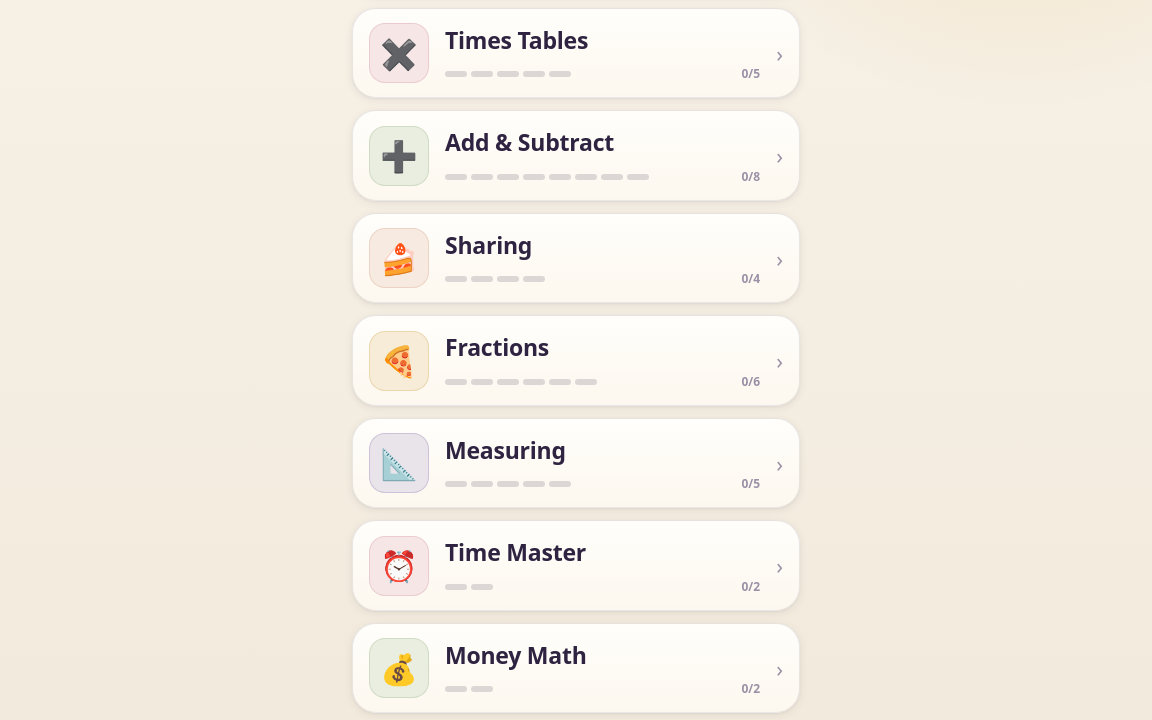
Test: full play loop › the intro shows only once — revisits land on the levels, 📖 still a tap away
(page scrolled)
Step 1. Click the button "🍕 Fractions 0/6 ›" → click(399, 361), box [352,315,800,406]
(page scrolled)
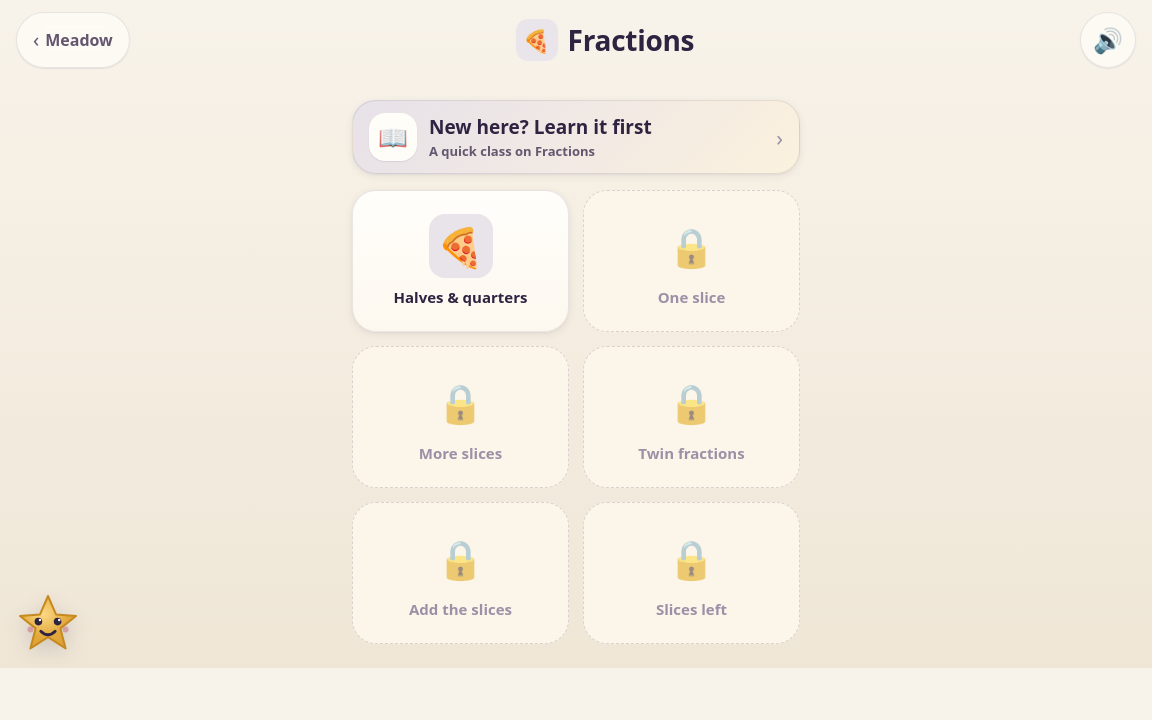
Step 2. Click the button "📖 New here? Learn it first A quick class on Fractions ›" → click(576, 137), box [352,100,800,174]
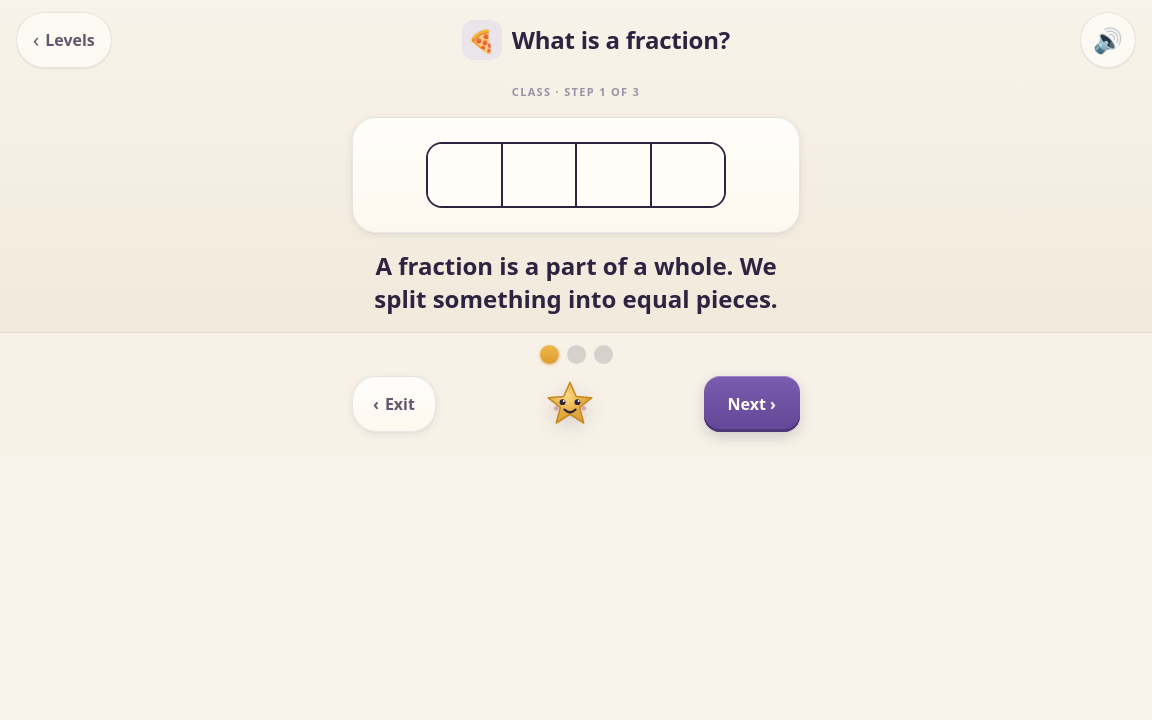
expect the text "Step 1 of 3" is shown: met, box [512,84,640,100]
